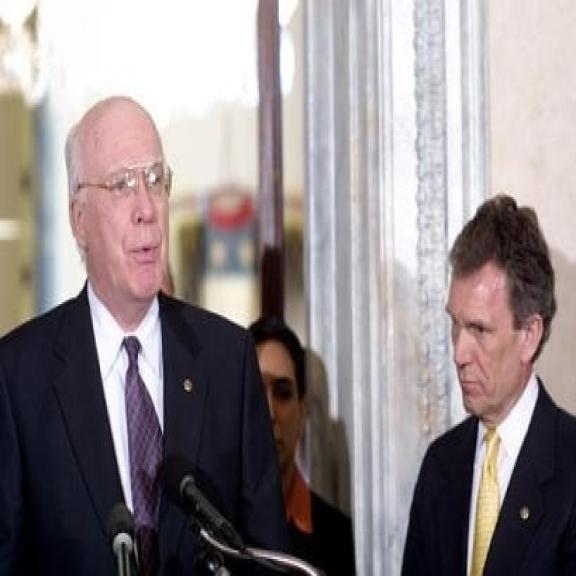face: (62, 98, 172, 308), (442, 227, 546, 421), (250, 327, 307, 474)
